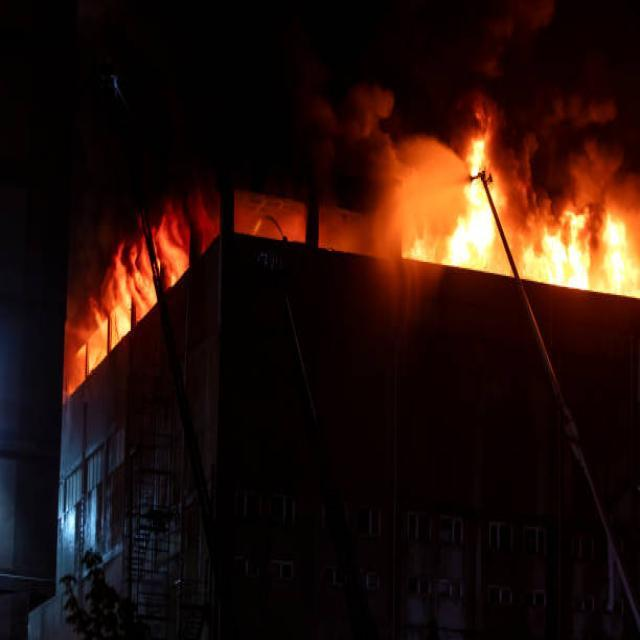Fire: (405, 130, 640, 298), (88, 178, 207, 350)
Smoke: (470, 0, 630, 206), (306, 56, 470, 251)
